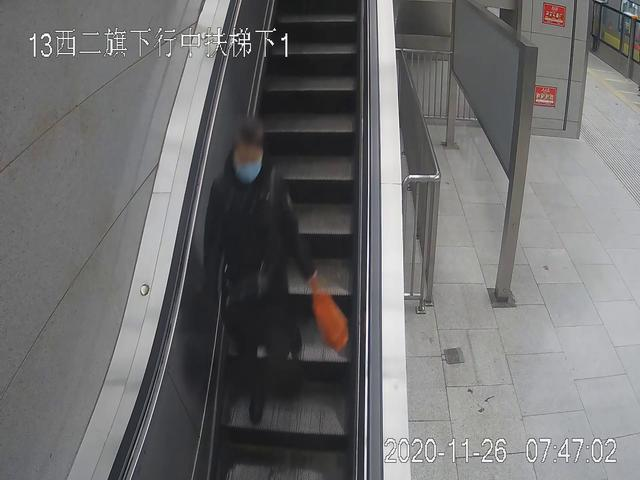person: (204, 118, 319, 425)
